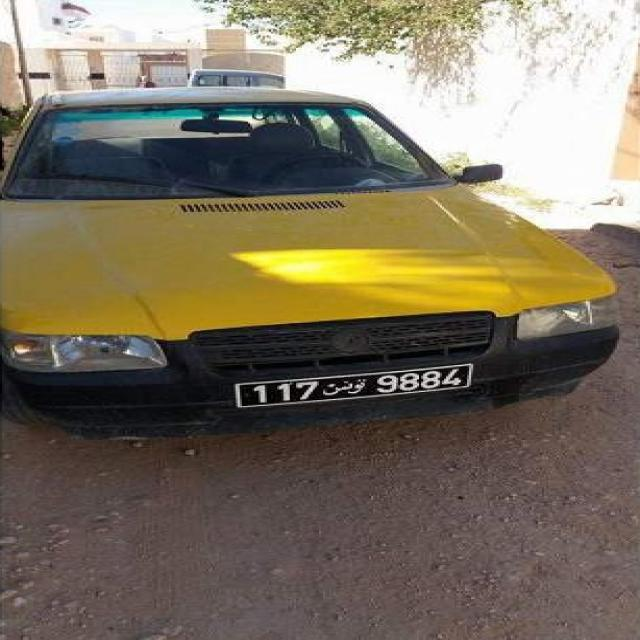licence plate: (238, 365, 471, 408)
